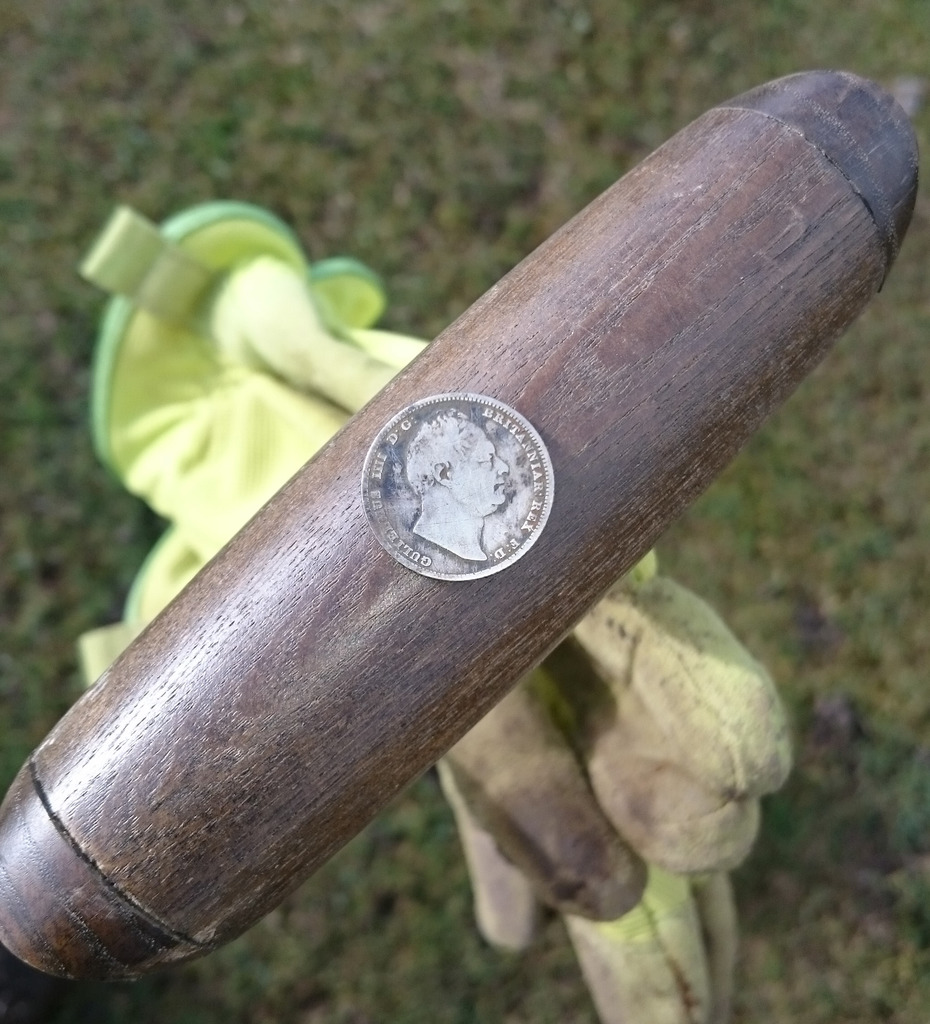Coin: (360, 392, 554, 581)
